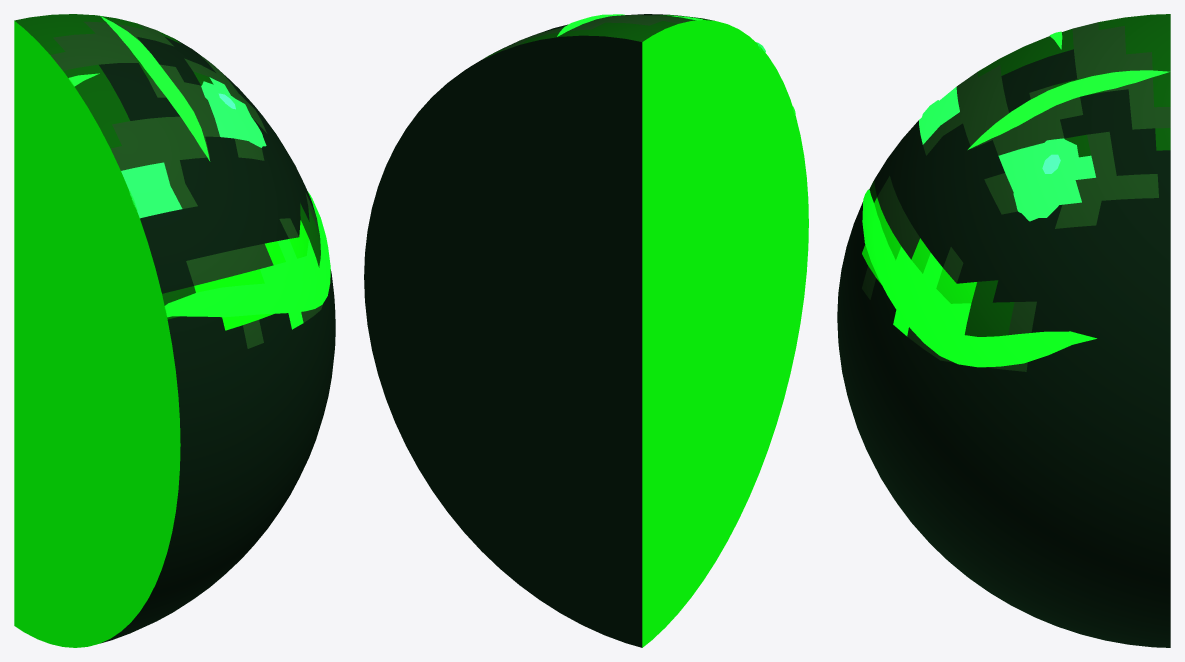
Rendered from newshu-131-f2.glb.
3 renders of one model, left to right at view 1: azimuth 30°, elevation 25°; view 2: azimuth 150°, elevation 25°; view 3: azimuth 270°, elevation 25°, orthographic.
Parts seen in each view (by area): view 1: newshu-131-f2; view 2: newshu-131-f2; view 3: newshu-131-f2.
Part boxes in pixels (x1,y1,x2,y2): newshu-131-f2: (14,14,335,647); newshu-131-f2: (364,14,808,647); newshu-131-f2: (837,14,1170,647).
Bounding box in the file's own units: 1.84 × 3.83 × 1.91.
